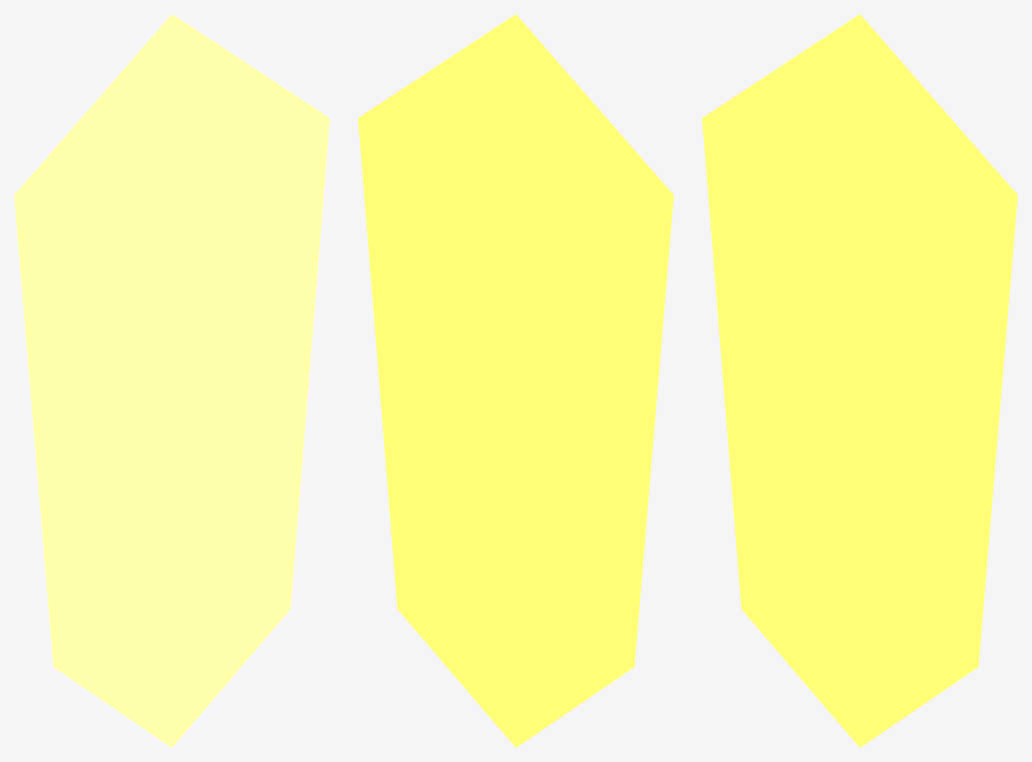
The model's file is Bullet.glb.
3 views of the same model, side by side, from view 1: azimuth 30°, elevation 25°; view 2: azimuth 150°, elevation 25°; view 3: azimuth 330°, elevation 25° (orthographic).
Visible parts, largest first — view 1: Bullet; view 2: Bullet; view 3: Bullet.
Boxes of the visible parts, x1,y1,x2,y2 form: Bullet: (14,14,329,747); Bullet: (358,14,673,747); Bullet: (702,14,1017,747).
Bounding box in the file's own units: 0.3738 × 0.83 × 5.96e-08.
